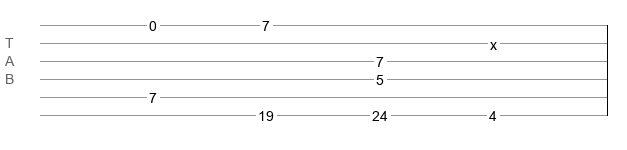0: (149, 18, 157, 28)
19: (258, 108, 274, 118)
24: (372, 108, 388, 118)
4: (489, 108, 497, 118)
5: (376, 72, 384, 82)
7: (149, 90, 157, 100), (262, 18, 270, 28), (376, 54, 384, 64)
x: (490, 37, 497, 45)
